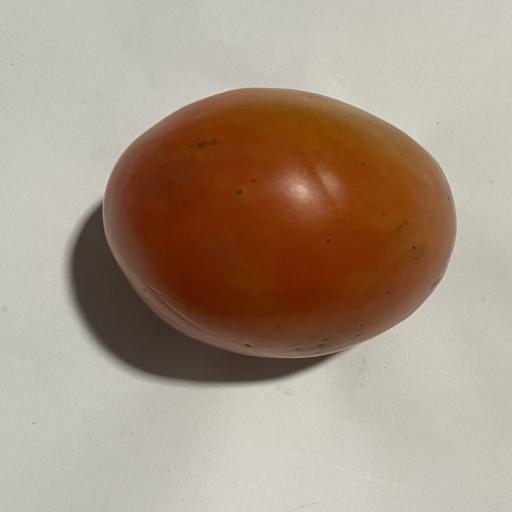ripe: (103, 88, 456, 358)
